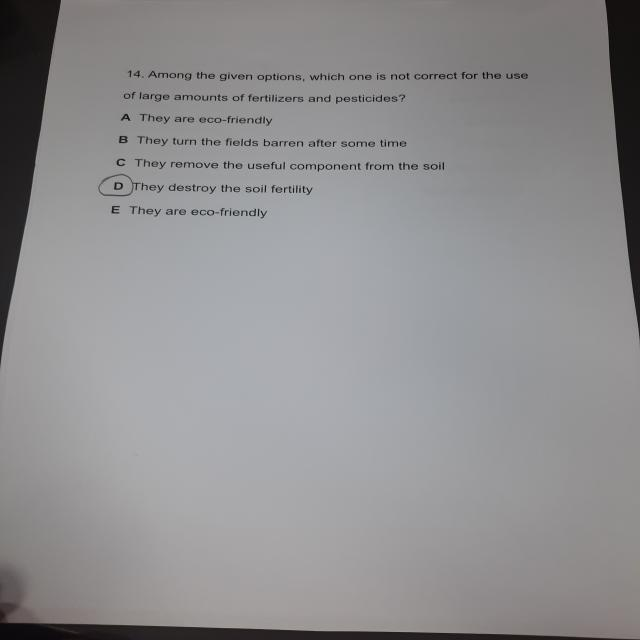D: (97, 172, 137, 199)
